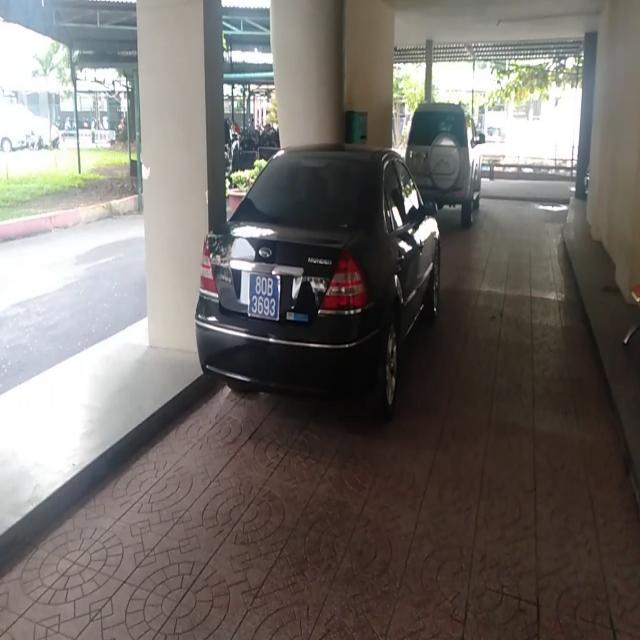bien_xanh: (250, 262, 282, 331)
